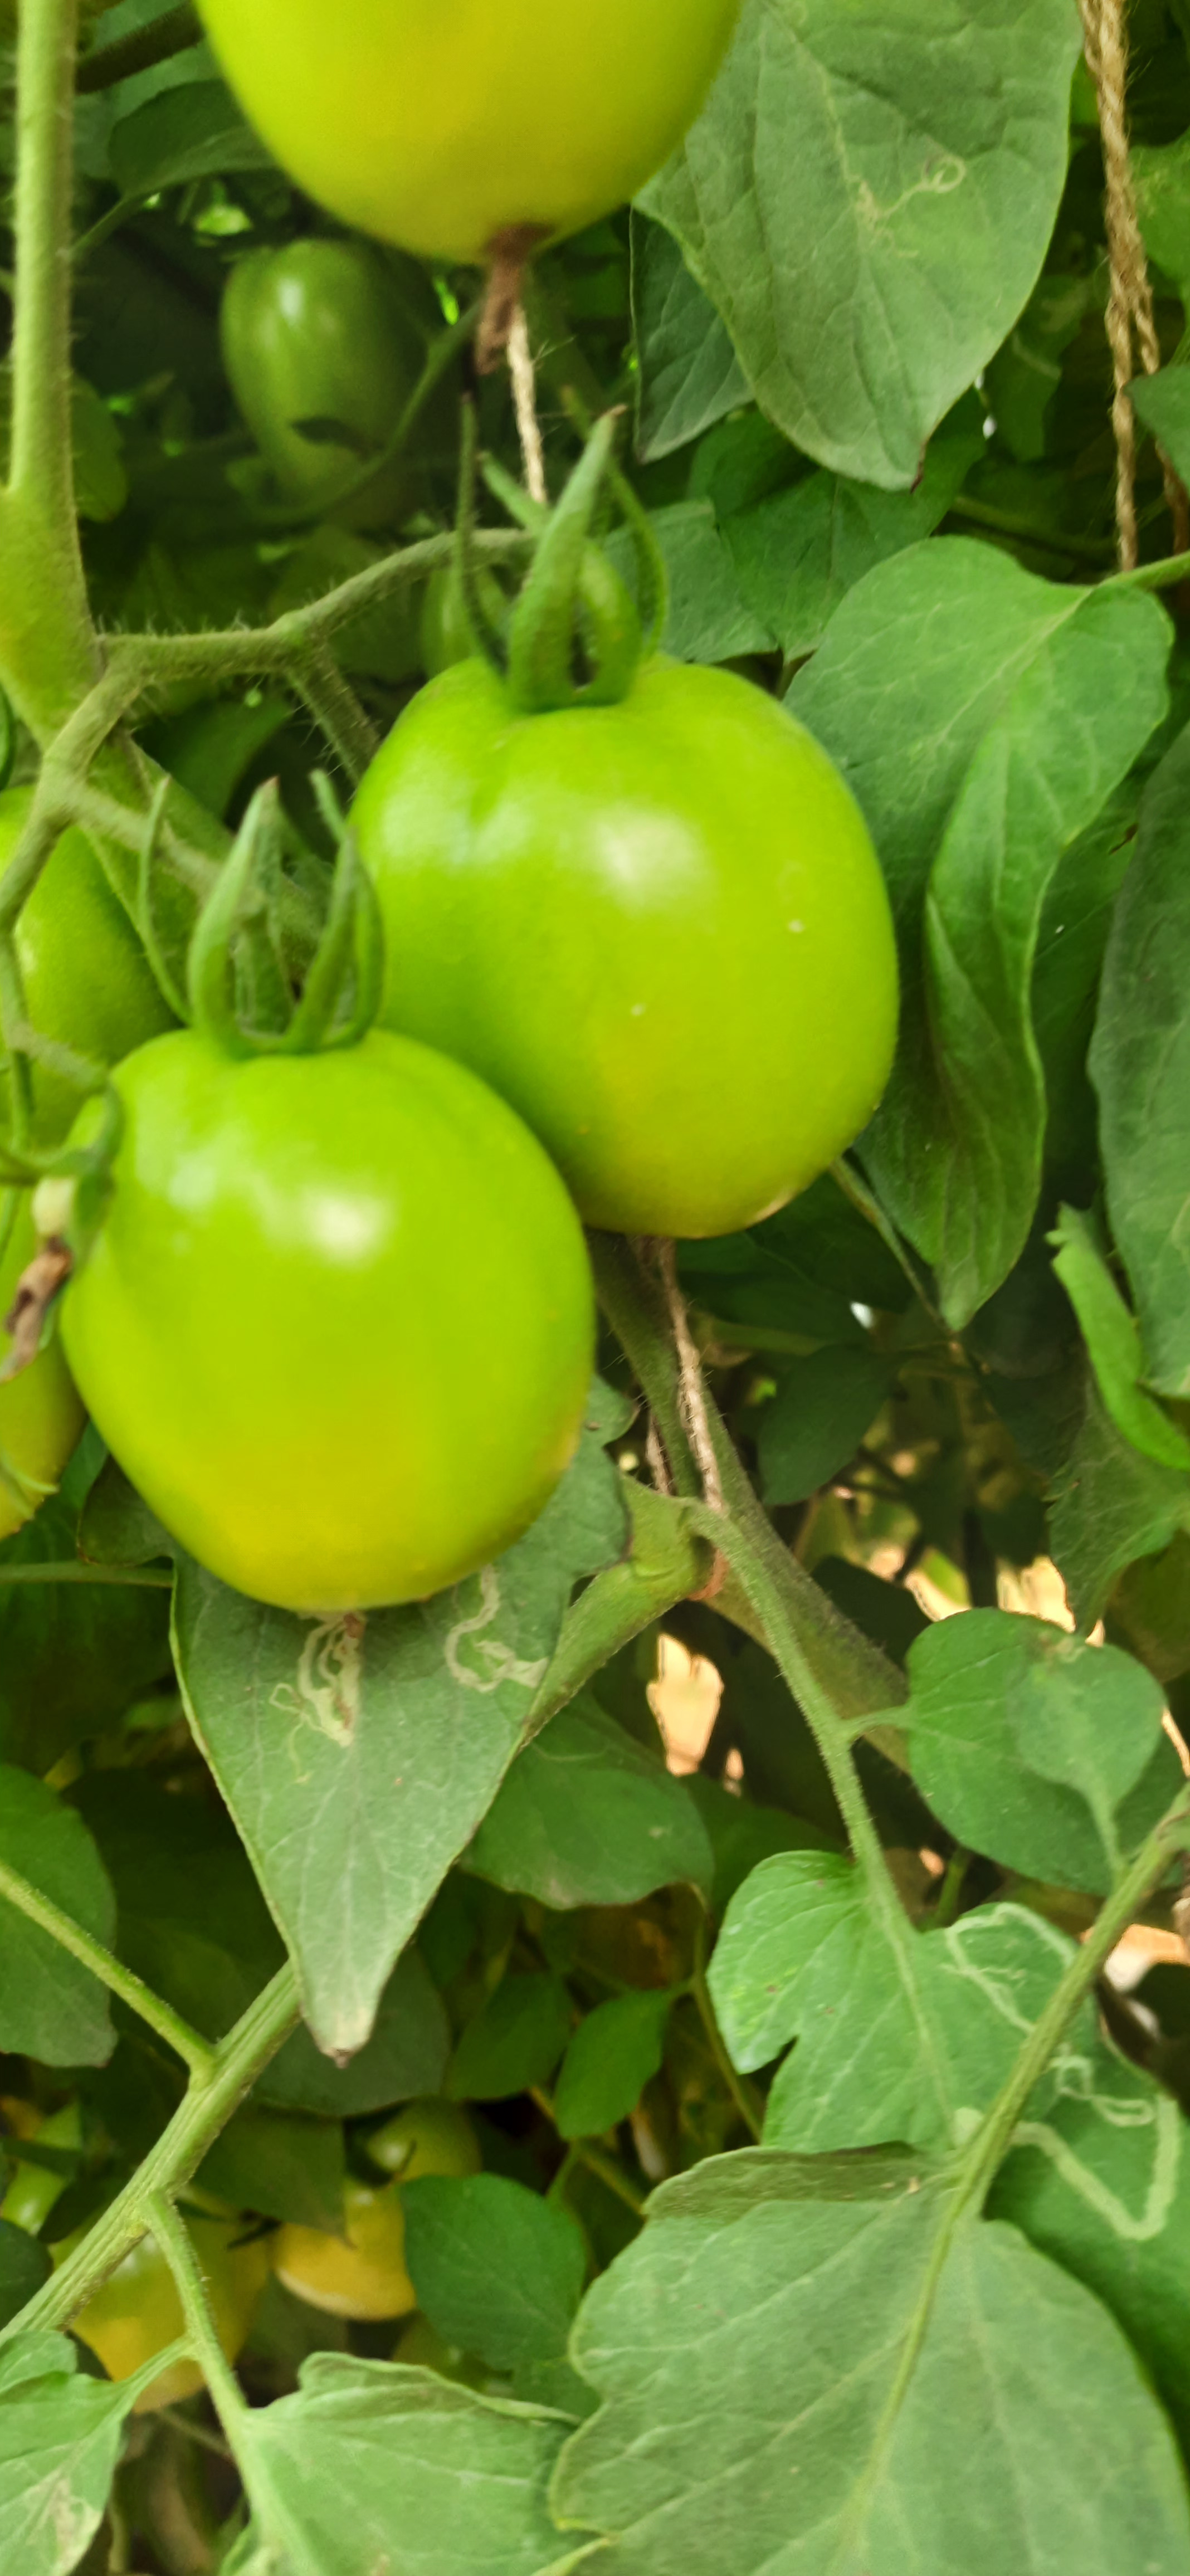raw_tomato: (54, 560, 999, 1628)
